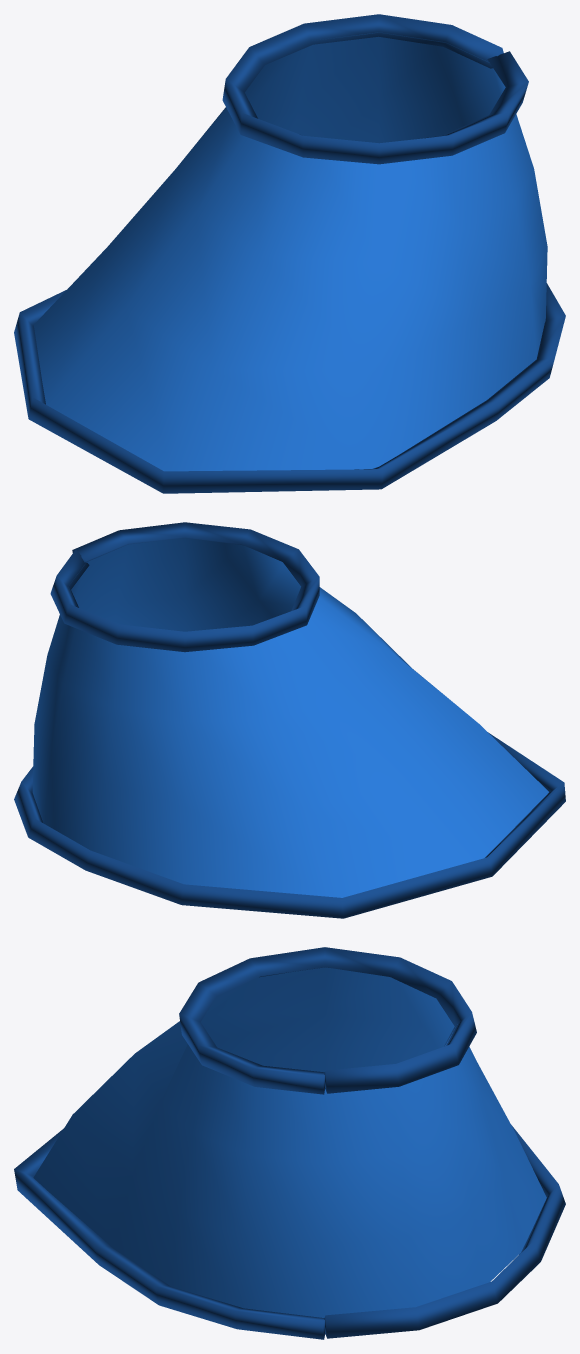
Rendered from cobalt_armor_pauldron.R.glb.
3 views of the same model, one above another, from view 1: azimuth 30°, elevation 25°; view 2: azimuth 150°, elevation 25°; view 3: azimuth 270°, elevation 25° (orthographic). The views are drawn at different scales.
Parts seen in each view (by area): view 1: cobalt_armor_pauldron.R; view 2: cobalt_armor_pauldron.R; view 3: cobalt_armor_pauldron.R.
Part boxes in pixels (box(x1,y1,x2,y2)): cobalt_armor_pauldron.R: box(14, 14, 565, 493); cobalt_armor_pauldron.R: box(14, 522, 565, 918); cobalt_armor_pauldron.R: box(14, 947, 565, 1339).
Bounding box in the file's own units: 0.342 × 0.1646 × 0.3253.
